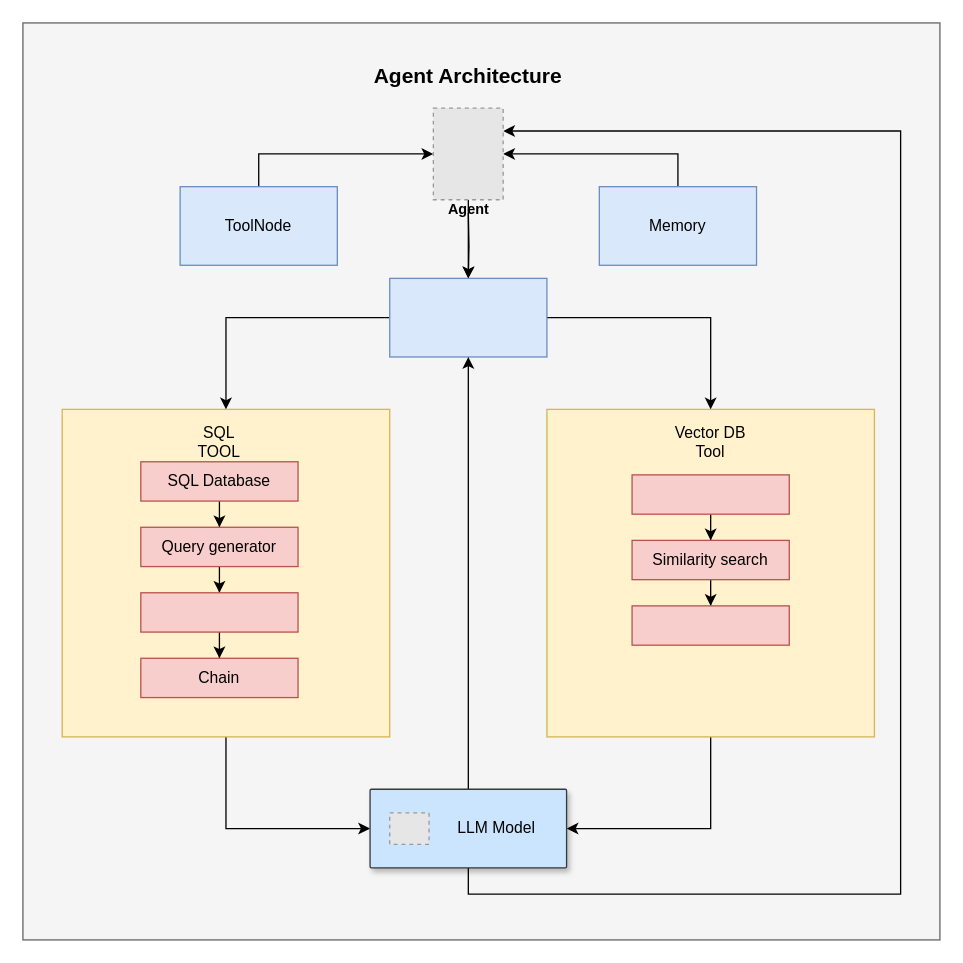
The diagram is 963 pixels wide and 963 high, and some of its shapes have lost their labels. Grey dashed boxes stand in for pictures. The centre of each missing label's shape, as x and y in pixels:
"Query Executor" goes at point (219, 611).
"Tool Router" goes at point (467, 317).
"Vector Database" goes at point (710, 494).
"Vector search tool" goes at point (710, 625).
